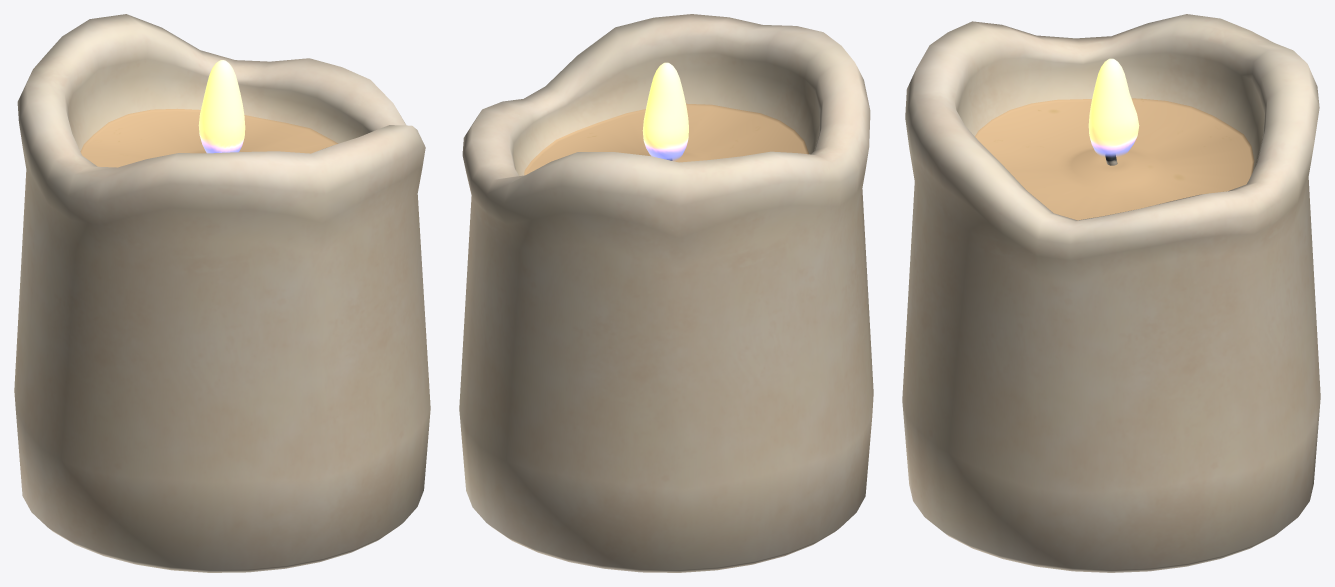
File: candle.glb
3 renders of one model, left to right at view 1: azimuth 30°, elevation 25°; view 2: azimuth 150°, elevation 25°; view 3: azimuth 270°, elevation 25°, orthographic.
Parts seen in each view (by area): view 1: Object_2; view 2: Object_2; view 3: Object_2.
Boxes of the visible parts, left/top/right/bottom form: Object_2: left=14, top=14, right=430, bottom=572; Object_2: left=459, top=14, right=873, bottom=572; Object_2: left=902, top=14, right=1320, bottom=572.
Bounding box in the file's own units: 2.07 × 2.35 × 2.07.
1 material, 1 textured.
